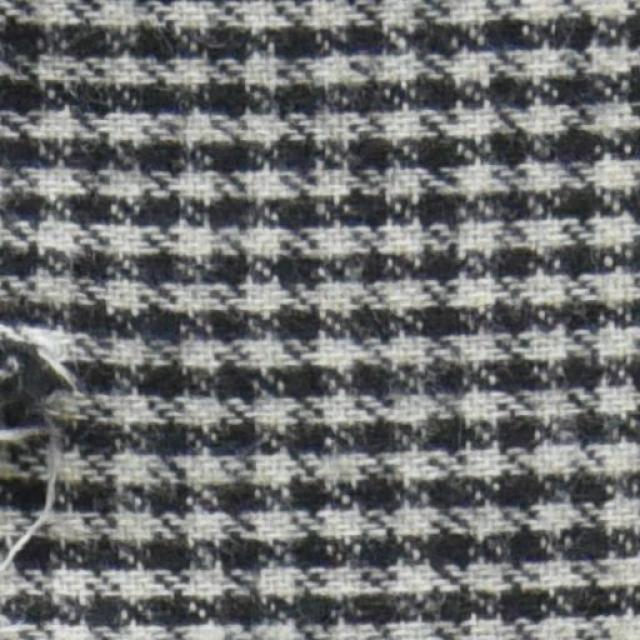Snag: (3, 302, 78, 567)
